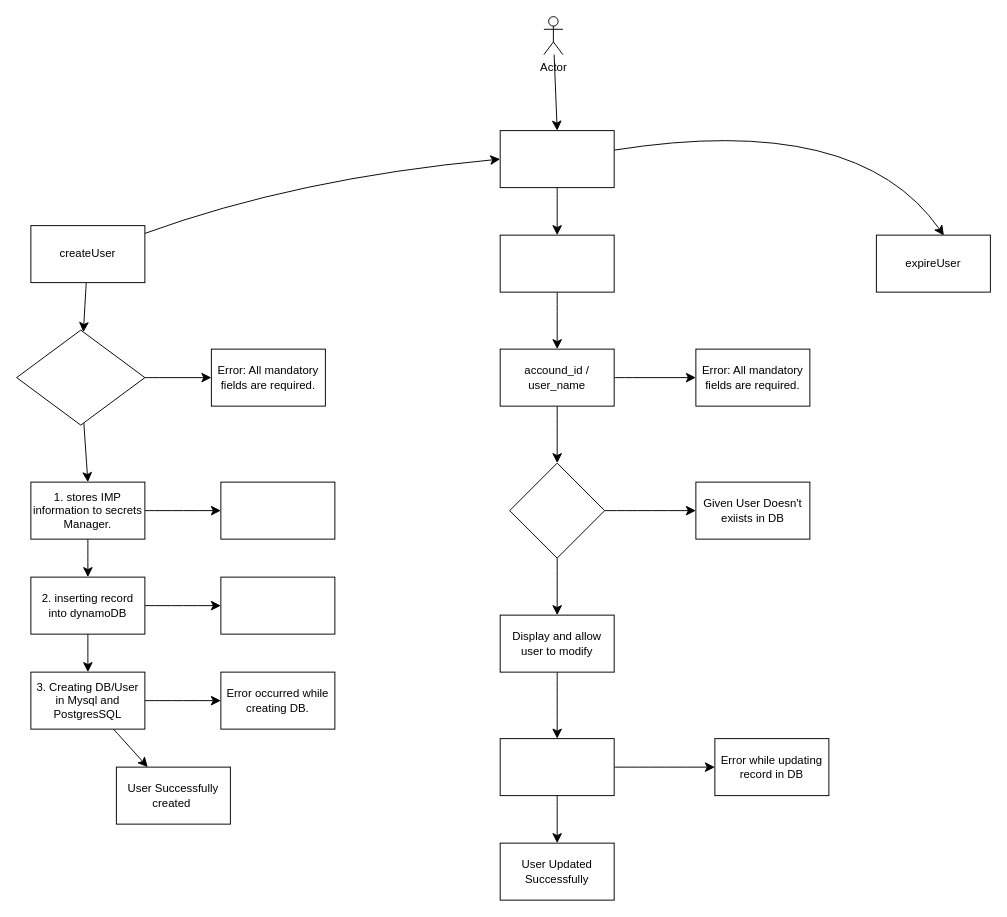
This 1007x917 diagram has some shape labels left out. The shapes that lost their labels are listed below. From the top down, each one's centre as x and y in pixels, then its label:
(556,159): clarifi website
(556,263): updateUser
(80,377): Entered all mandatory fields ?
(277,510): Error: Error Occurred while Storing Details
(557,510): Fetch Details From DB
(277,605): Error occurred while storing details into dynamoDB
(556,767): update record in dynamoDB
